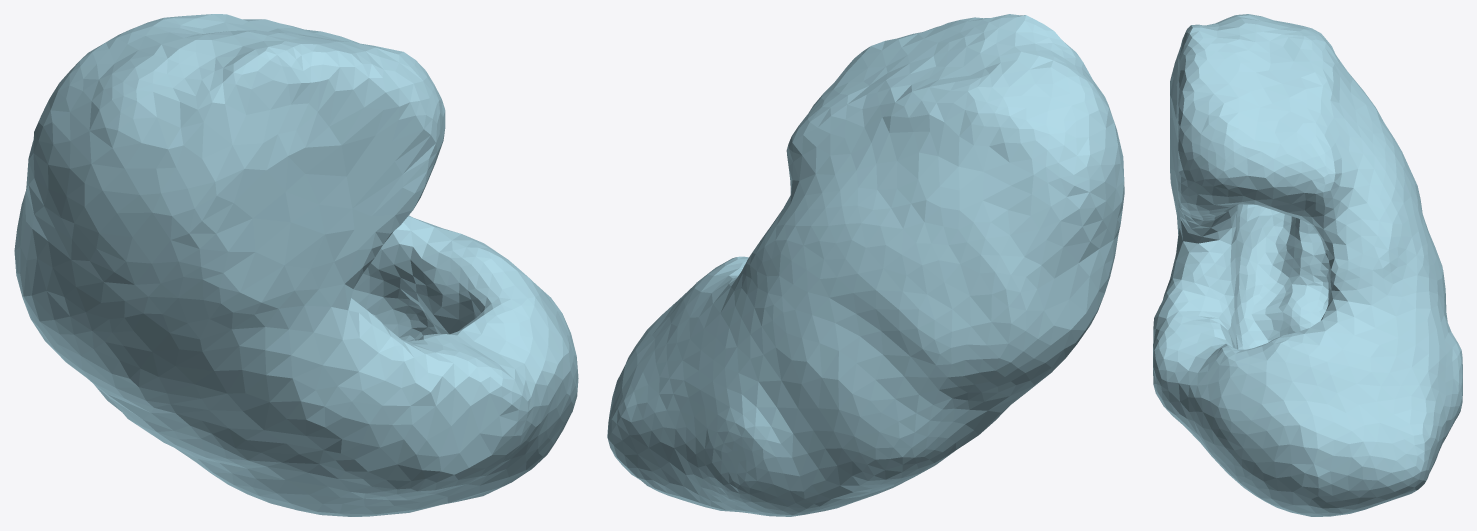
The model's file is rightkidney.obj.
3 views of the same model, side by side, from view 1: azimuth 30°, elevation 25°; view 2: azimuth 150°, elevation 25°; view 3: azimuth 270°, elevation 25° (orthographic). The views are drawn at different scales.
Visible parts, largest first — view 1: grp1; view 2: grp1; view 3: grp1.
Boxes of the visible parts, <box> form: grp1: <box>14,14,578,516</box>; grp1: <box>607,14,1124,516</box>; grp1: <box>1153,14,1462,516</box>.
Bounding box in the file's own units: 82.74 × 82.4 × 59.2.
